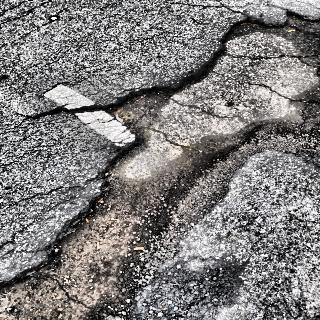pothole: (133, 0, 320, 202)
